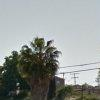Palm tree: (13, 28, 69, 94)
